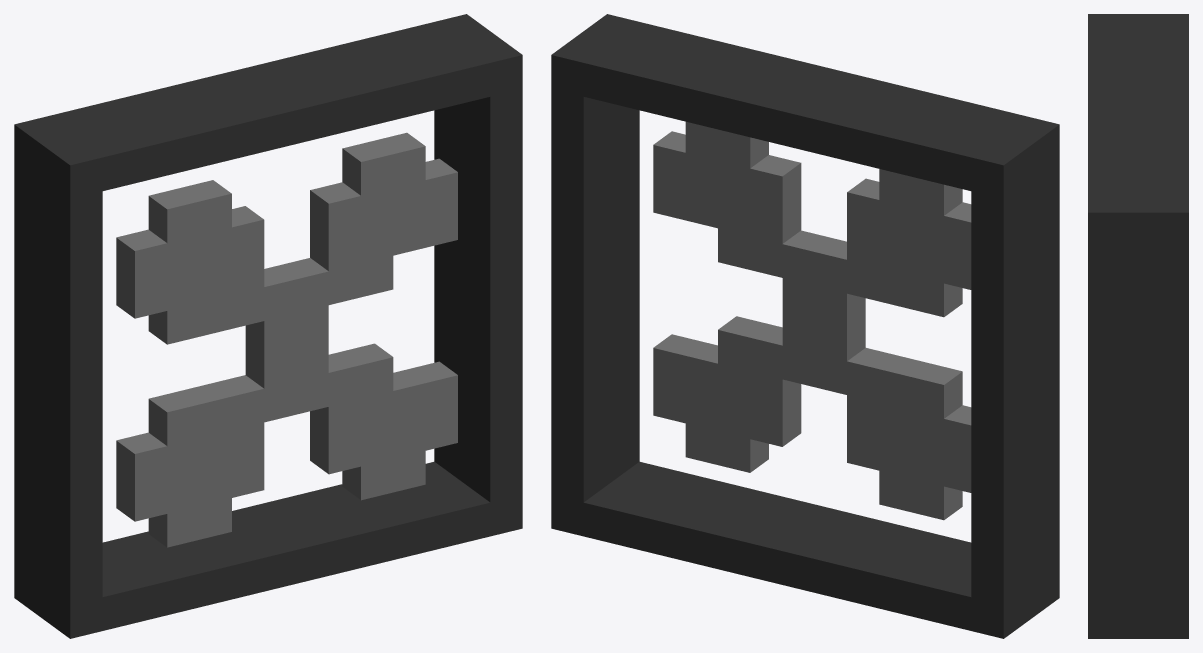
The model's file is Fan Light.fbx.
3 renders of one model, left to right at view 1: azimuth 30°, elevation 25°; view 2: azimuth 150°, elevation 25°; view 3: azimuth 270°, elevation 25°, orthographic. The views are drawn at different scales.
Visible parts, largest first — view 1: Matrix, Matrix_1; view 2: Matrix, Matrix_1; view 3: Matrix.
Part boxes in pixels (x1=…): Matrix: x1=14, y1=14, x2=522, y2=638; Matrix_1: x1=116, y1=132, x2=457, y2=547; Matrix: x1=551, y1=14, x2=1059, y2=638; Matrix_1: x1=653, y1=121, x2=971, y2=520; Matrix: x1=1088, y1=14, x2=1188, y2=638.
Size of the model in its own units: 14 by 14 by 3.
